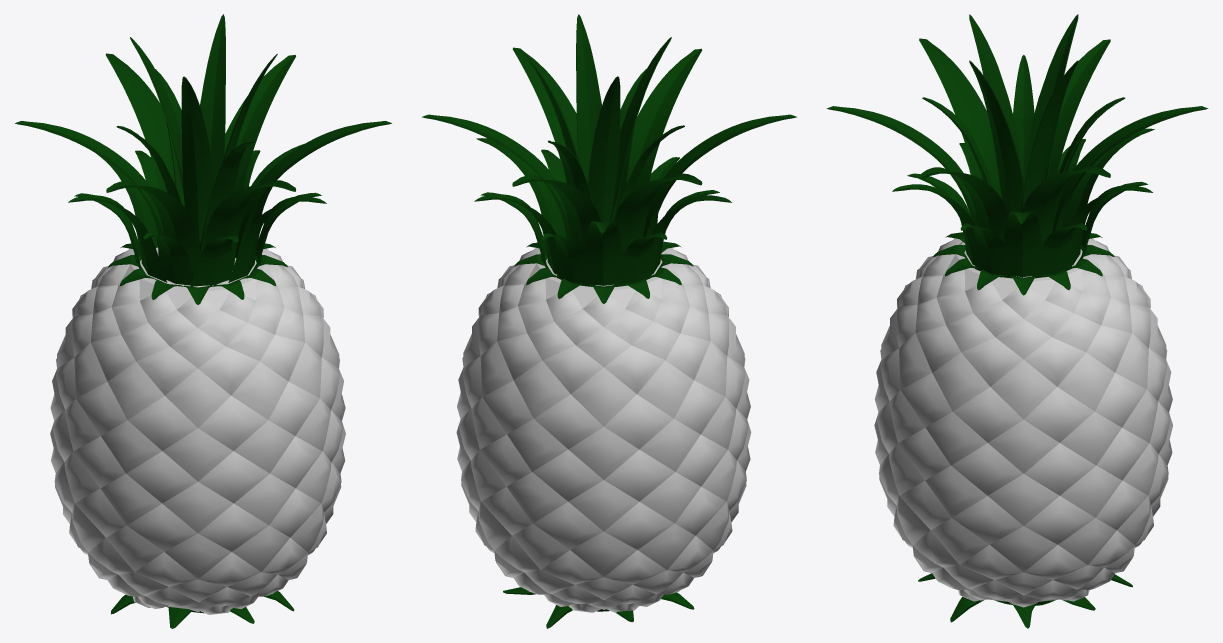
Rendered from floting land.fbx.
The picture shows the model from 3 angles, left to right: view 1: azimuth 30°, elevation 25°; view 2: azimuth 150°, elevation 25°; view 3: azimuth 270°, elevation 25°; orthographic projection.
Visible parts, largest first — view 1: polySurface429, group4, group5, group3, group2, polySurface455; view 2: polySurface429, group4, group5, group3, group2, polySurface455; view 3: polySurface429, group4, group5, group3, group2, polySurface455.
Part boxes in pixels (x1,y1,x2,y2): polySurface429: (50, 247, 345, 614); group4: (15, 53, 391, 274); group5: (116, 14, 277, 254); group3: (68, 143, 326, 286); group2: (108, 243, 287, 304); polySurface455: (111, 591, 294, 628); polySurface429: (456, 248, 751, 612); group4: (422, 47, 796, 255); group5: (524, 14, 684, 222); group3: (474, 138, 731, 286); group2: (514, 241, 693, 303); polySurface455: (503, 587, 694, 628); polySurface429: (874, 238, 1172, 607); group4: (826, 38, 1208, 245); group5: (922, 14, 1125, 233); group3: (892, 128, 1154, 278); group2: (933, 232, 1114, 295); polySurface455: (918, 573, 1132, 628).
Size of the model in its own units: 0.8908 by 1.65 by 1.02.
